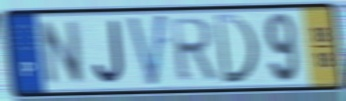9: (265, 11, 303, 85)
D: (212, 13, 261, 87)
J: (91, 18, 127, 87)
N: (40, 18, 86, 88)
R: (169, 16, 220, 85)
V: (125, 11, 169, 91)
